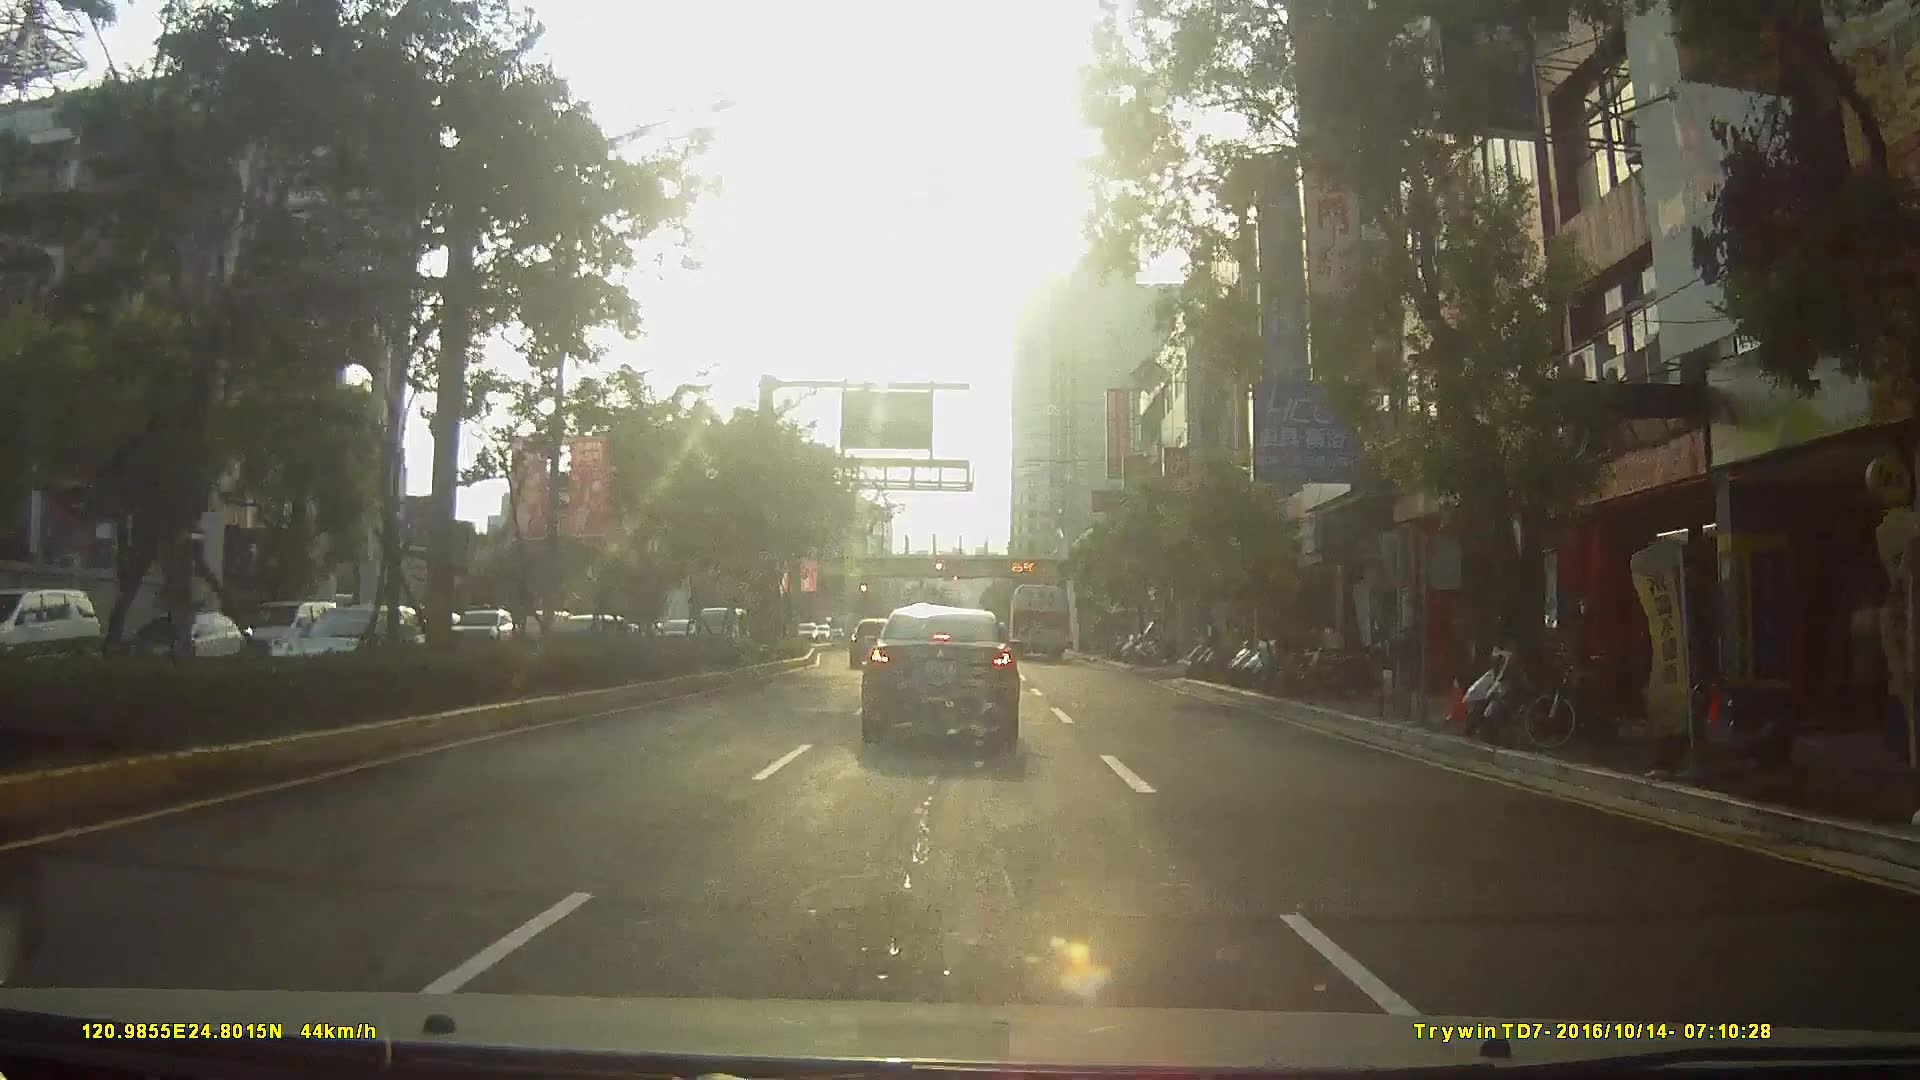vehicle: (858, 605, 1021, 744), (113, 611, 262, 680), (1, 585, 92, 676), (233, 597, 334, 665), (1006, 580, 1072, 659), (328, 603, 413, 661), (444, 607, 514, 647), (847, 611, 895, 662)
